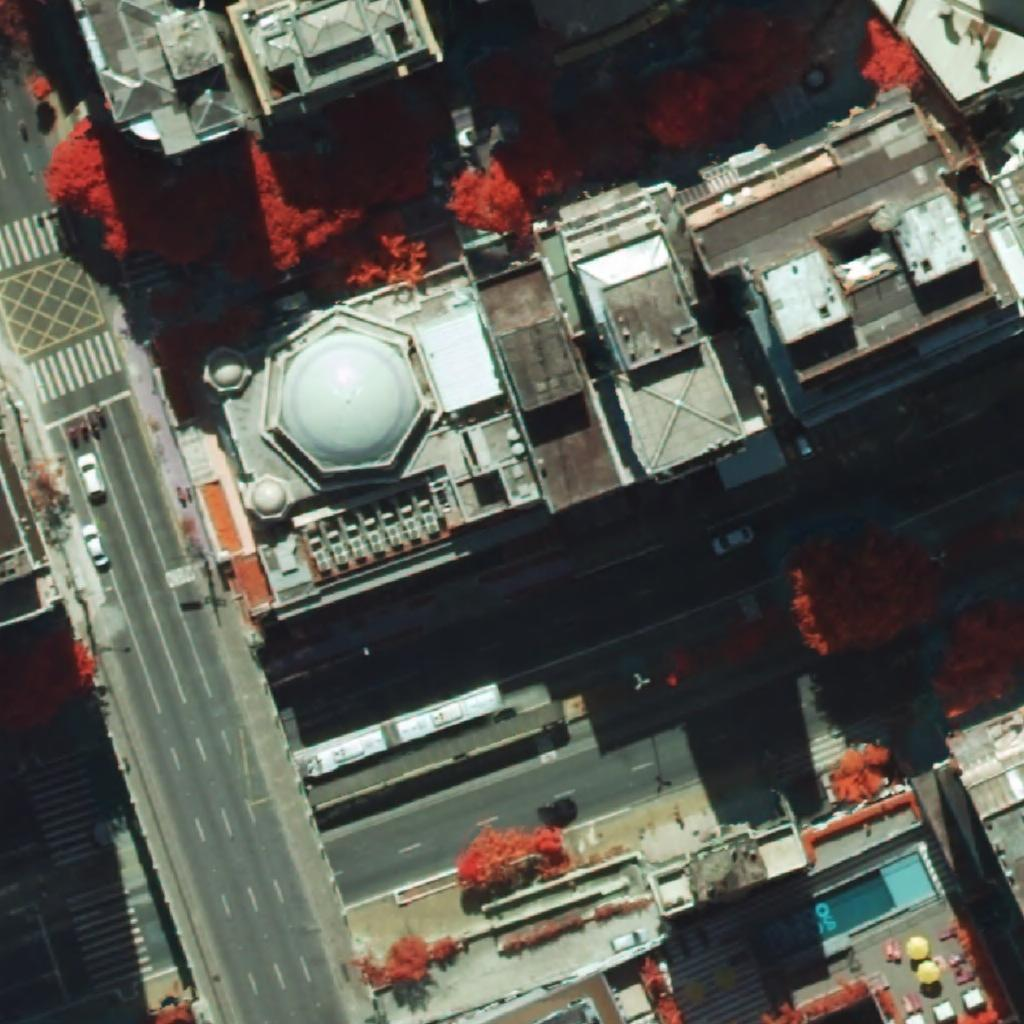pool: (761, 852, 937, 960)
